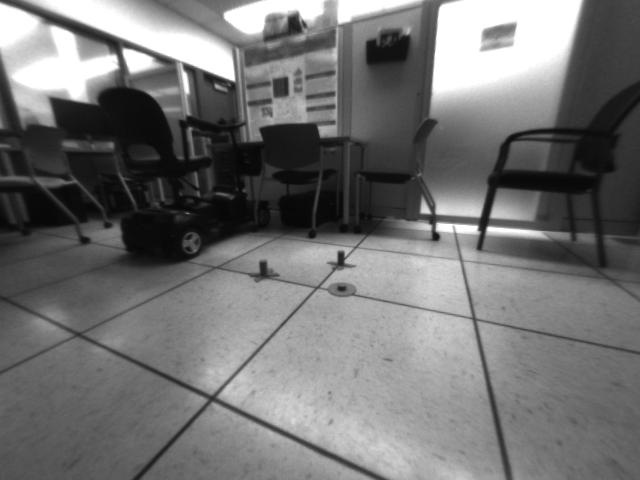X: (245, 259, 279, 284), (325, 251, 357, 272)
